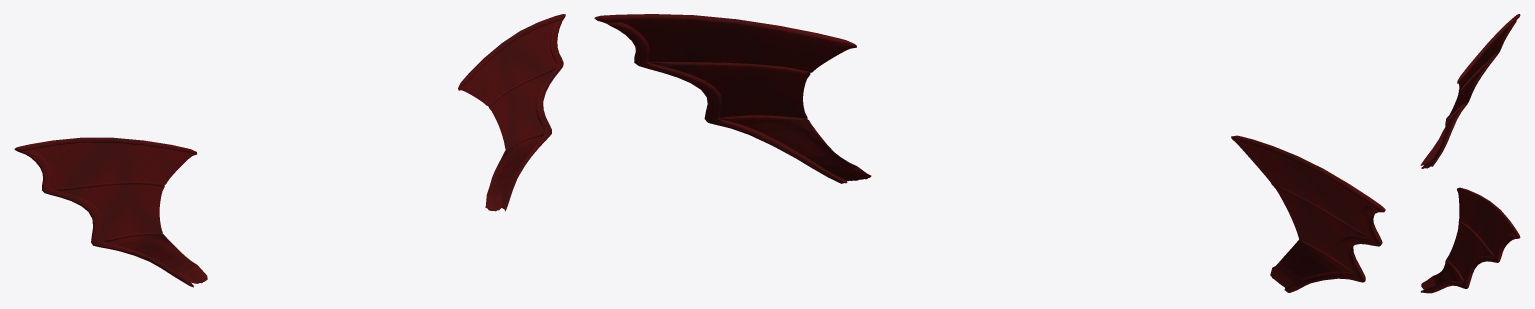
File: AD_Demon_Head_Wings.fbx
3 renders of one model, left to right at view 1: azimuth 30°, elevation 25°; view 2: azimuth 150°, elevation 25°; view 3: azimuth 270°, elevation 25°, orthographic. The views are drawn at different scales.
Parts seen in each view (by area): view 1: D_HeadWings; view 2: D_HeadWings; view 3: D_HeadWings.
Part boxes in pixels (left/top/right/bottom): D_HeadWings: left=14, top=14, right=565, bottom=287; D_HeadWings: left=594, top=14, right=1385, bottom=292; D_HeadWings: left=1420, top=14, right=1520, bottom=293.
Size of the model in its own units: 193 by 46.99 by 38.66.
